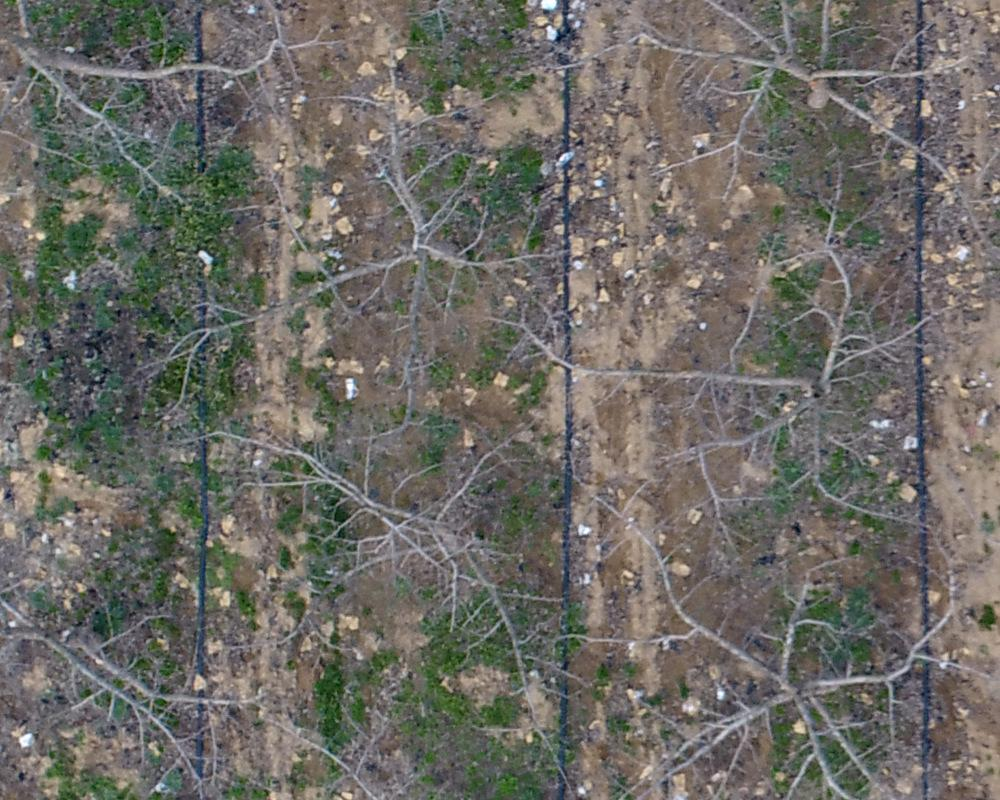apple: (114, 65, 586, 412), (196, 418, 601, 776), (496, 234, 962, 532), (577, 490, 990, 790), (582, 10, 977, 204), (10, 495, 269, 790)
